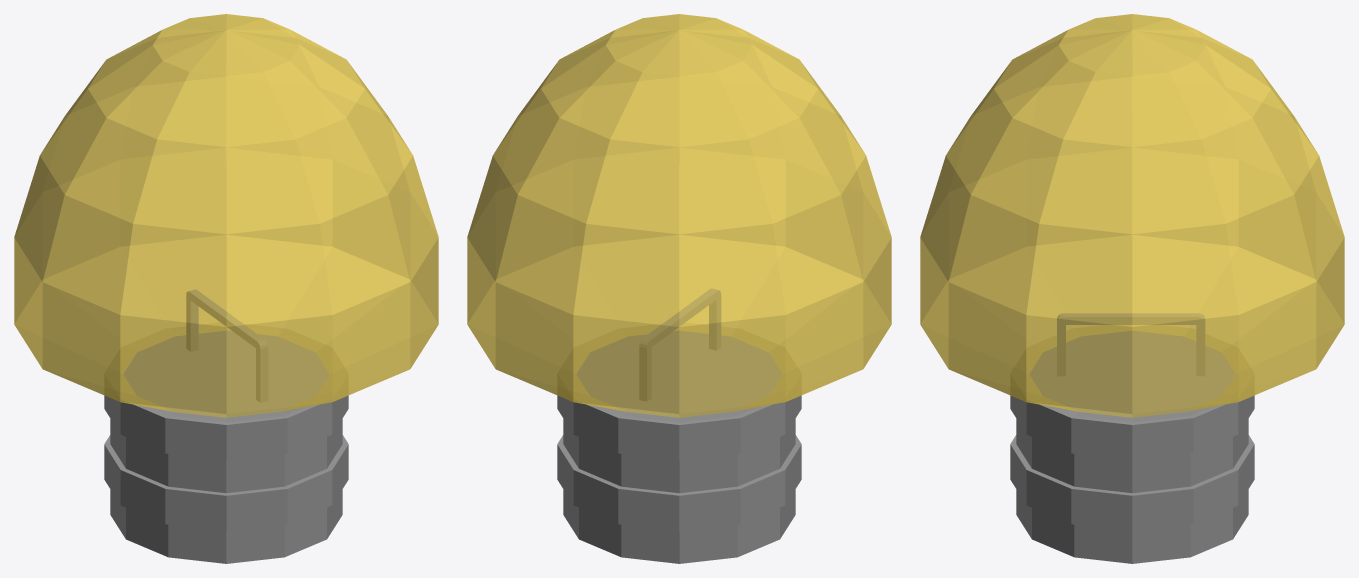
File: threejsLightbulb.glb
3 renders of one model, left to right at view 1: azimuth 30°, elevation 25°; view 2: azimuth 150°, elevation 25°; view 3: azimuth 270°, elevation 25°, orthographic.
Visible parts, largest first — view 1: bulb; view 2: bulb; view 3: bulb.
Boxes of the visible parts, x1,y1,x2,y2 form: bulb: (14,14,438,563); bulb: (467,14,891,563); bulb: (920,14,1344,563).
Bounding box in the file's own units: 1.75 × 2.21 × 1.75.
